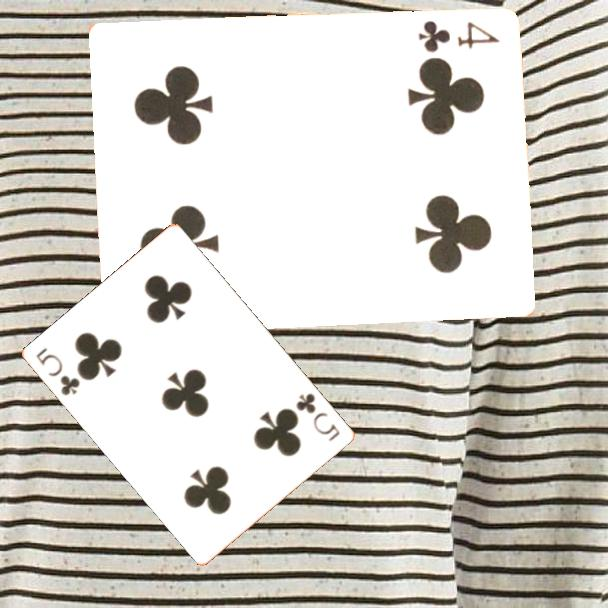c04: (414, 18, 503, 54)
c05: (33, 344, 83, 399), (293, 390, 343, 444)
